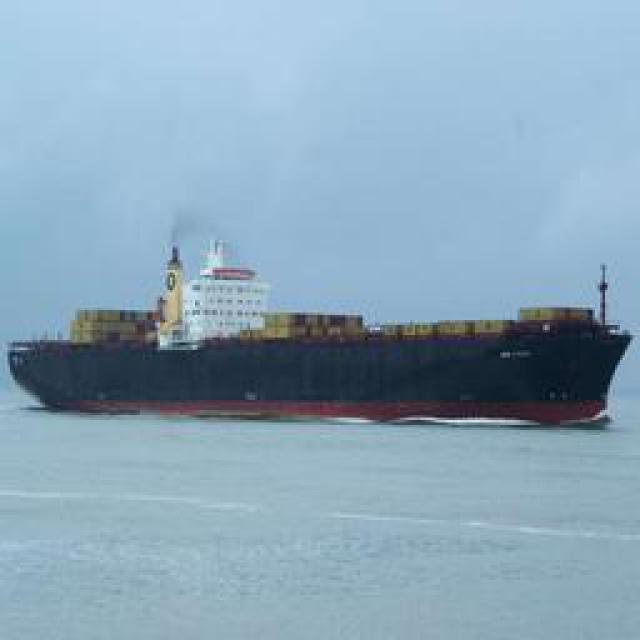Ship: (15, 235, 630, 423)
